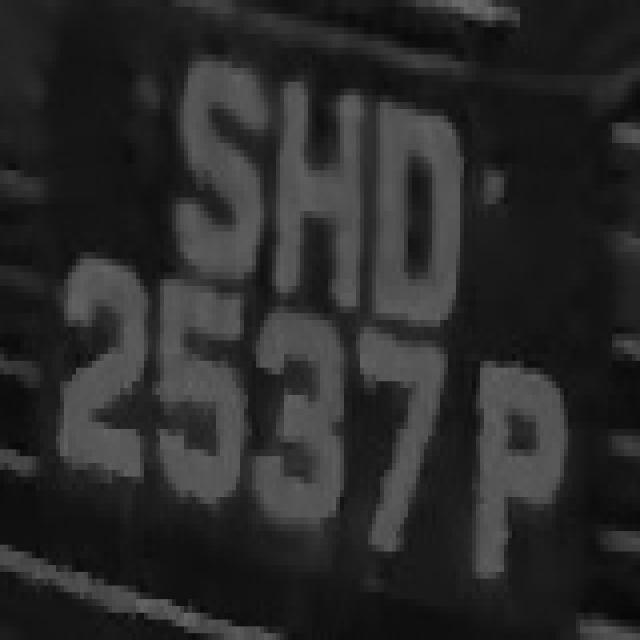2: (48, 225, 148, 504)
3: (248, 286, 356, 545)
5: (144, 266, 248, 518)
7: (352, 286, 456, 572)
D: (360, 88, 468, 340)
H: (260, 41, 364, 327)
P: (448, 341, 572, 599)
S: (160, 27, 260, 300)
